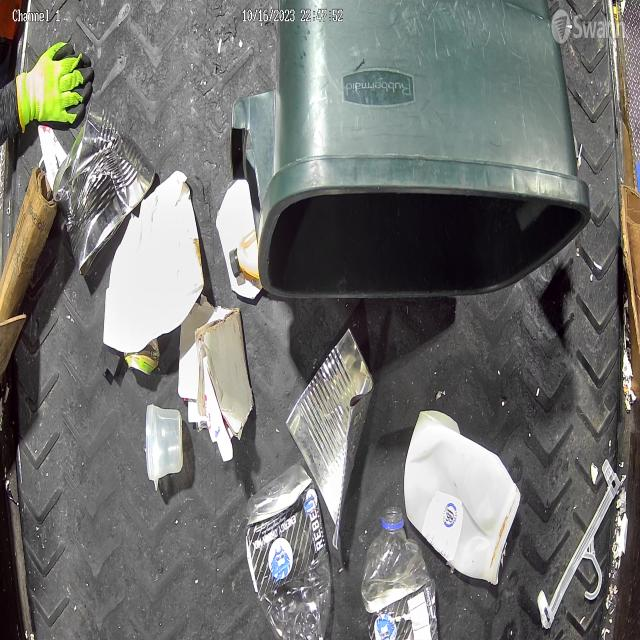can: (53, 101, 156, 276), (124, 338, 160, 377)
milk_jug: (404, 412, 522, 585)
non_white_jug: (229, 219, 259, 280)
plastic_bottle: (246, 464, 332, 640), (361, 506, 433, 638)
